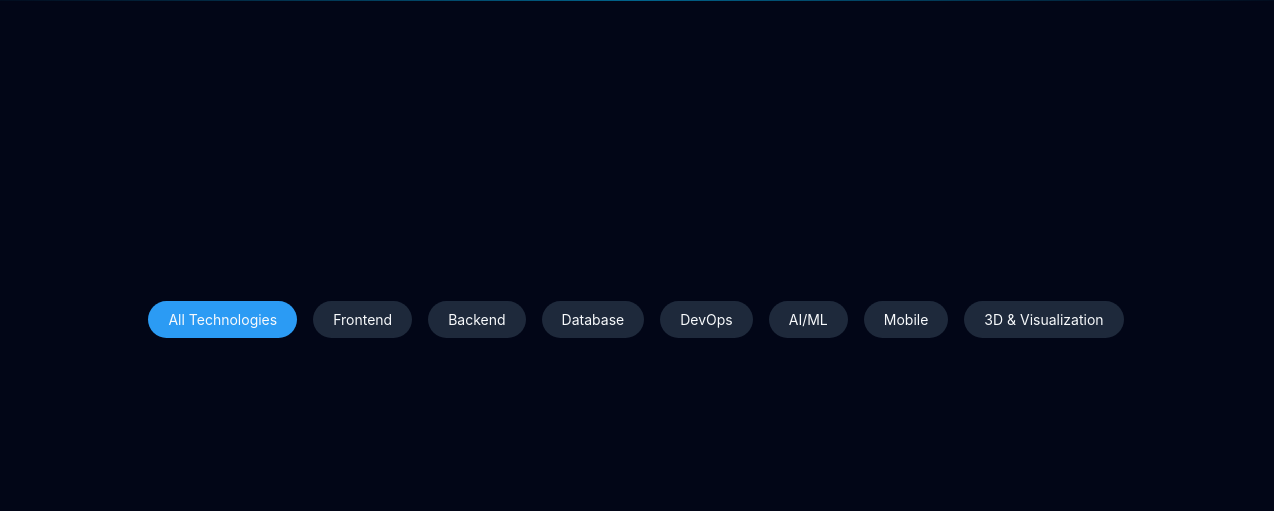
Scenario: TechStack › filters technologies when database category is selected
Click the button "Database": click(593, 320) 542,301 -> 644,338
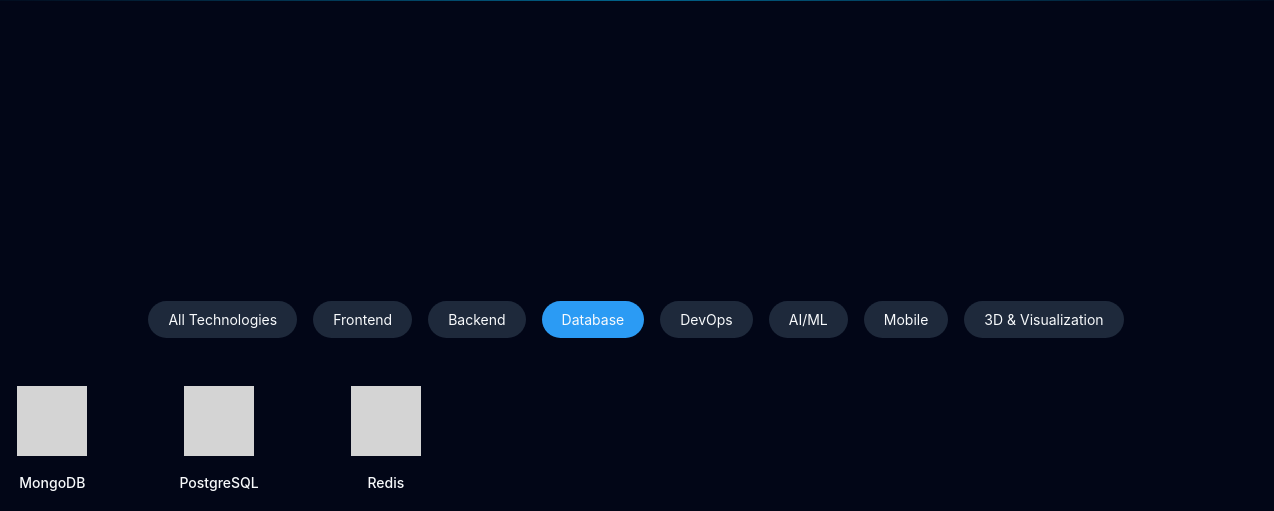
Result: the text "MongoDB" is shown at 19,472 -> 85,495
Result: the text "PostgreSQL" is shown at 180,472 -> 259,495
Result: the text "Redis" is shown at 368,472 -> 404,495
